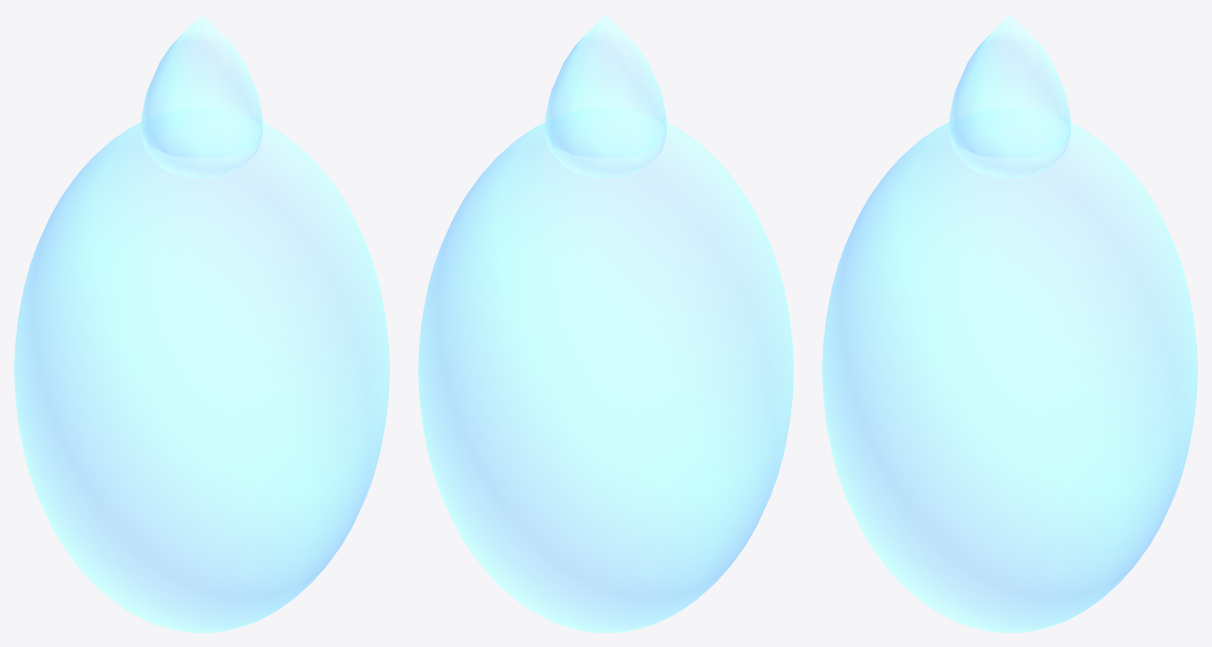
File: water_drop.glb
The picture shows the model from 3 angles, left to right: view 1: azimuth 30°, elevation 25°; view 2: azimuth 150°, elevation 25°; view 3: azimuth 270°, elevation 25°; orthographic projection.
Visible parts, largest first — view 1: water_drop; view 2: water_drop; view 3: water_drop.
Part boxes in pixels (<box>): water_drop: <box>14,14,389,632</box>; water_drop: <box>418,14,793,632</box>; water_drop: <box>822,14,1197,632</box>.
Size of the model in its own units: 0.2235 by 0.3983 by 0.2235.
